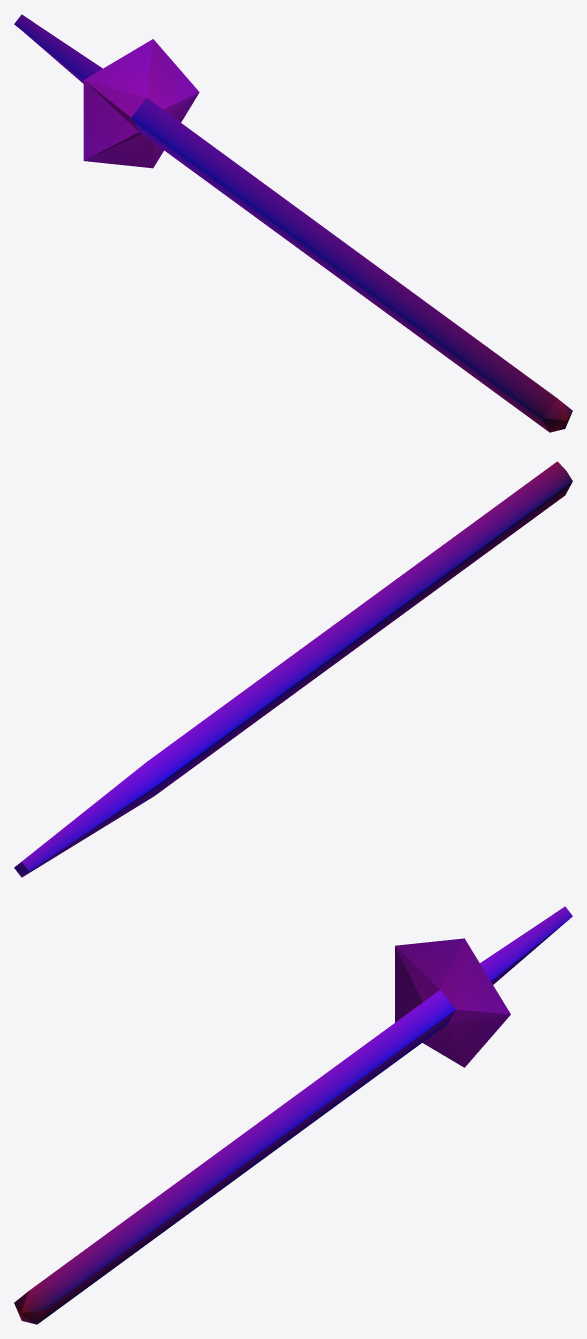
Rendered from model_2CBA.glb.
3 views of the same model, one above another, from view 1: azimuth 30°, elevation 25°; view 2: azimuth 150°, elevation 25°; view 3: azimuth 330°, elevation 25° (orthographic).
Parts seen in each view (by area): view 1: model_2CBA; view 2: model_2CBA; view 3: model_2CBA.
Part boxes in pixels (x1,y1,x2,y2): model_2CBA: (14,14,572,432); model_2CBA: (14,461,572,877); model_2CBA: (14,906,572,1324).
Size of the model in its own units: 15.12 by 16.12 by 123.
